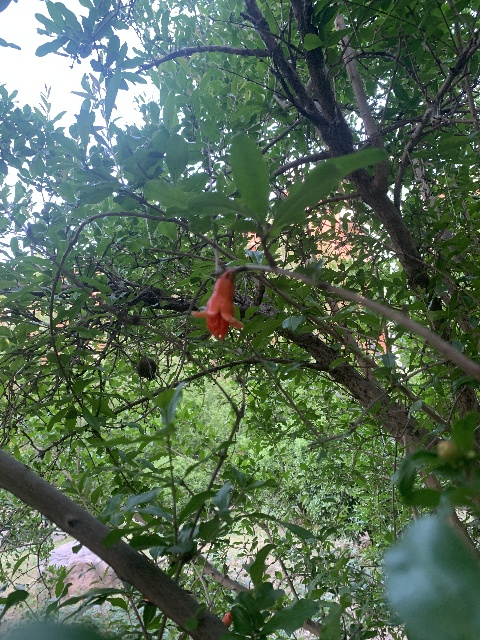bud: (222, 611, 232, 627)
flower: (191, 270, 244, 340)
